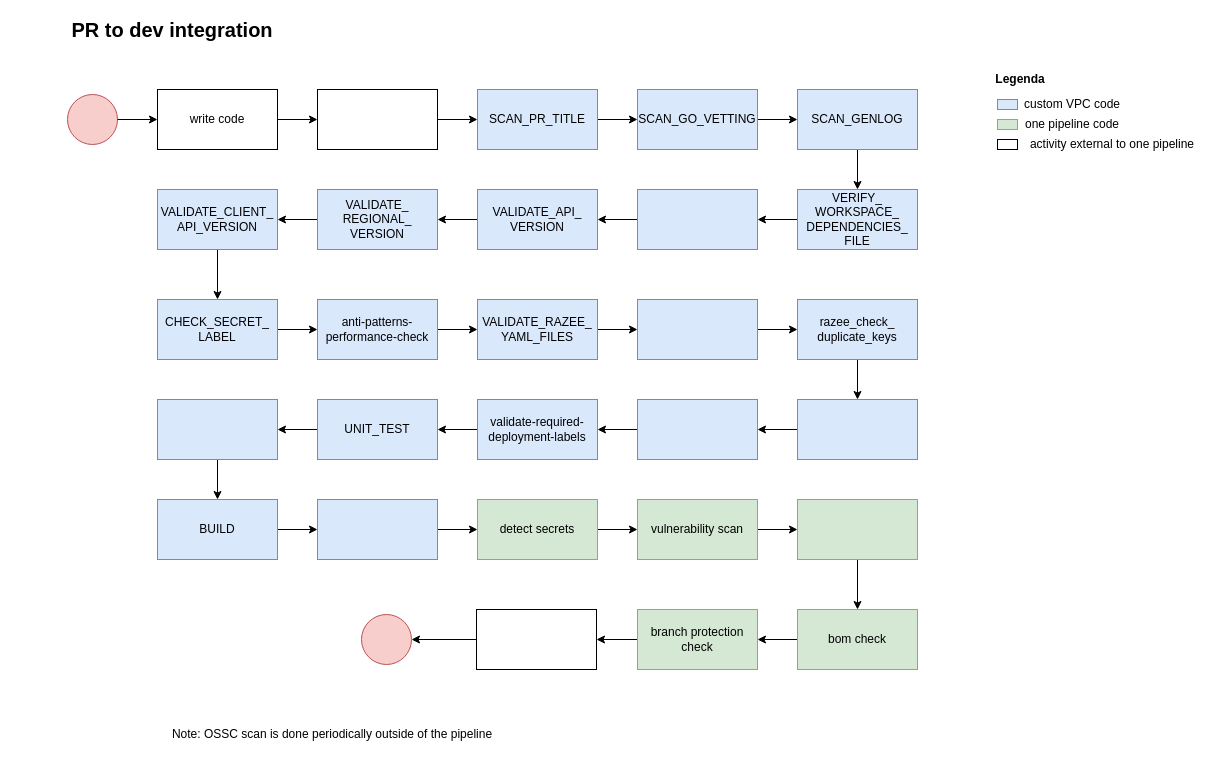
Image size: 1224x766. Some labels were removed from this diagram. The shapes that lost their labels are listed below. From the top down, each one's centre as x and y in pixels, then its label:
At (x=377, y=119): "commit code on dev-integration branch".
At (x=697, y=219): "VALIDATE_ VERSION_ FILE".
At (x=697, y=329): "VALIDATE_RAZEE_ FILES".
At (x=217, y=429): "CODE_COVERAGE".
At (x=697, y=429): "validate-global-keys".
At (x=857, y=429): "VALIDATE_RAZEE_ REMOTE_ RESOURCE".
At (x=377, y=529): "UPLOAD_TO_COS_ IF_LABEL_EXISTS_ IN_PR".
At (x=857, y=529): "cis-check".
At (x=536, y=639): "code review".
